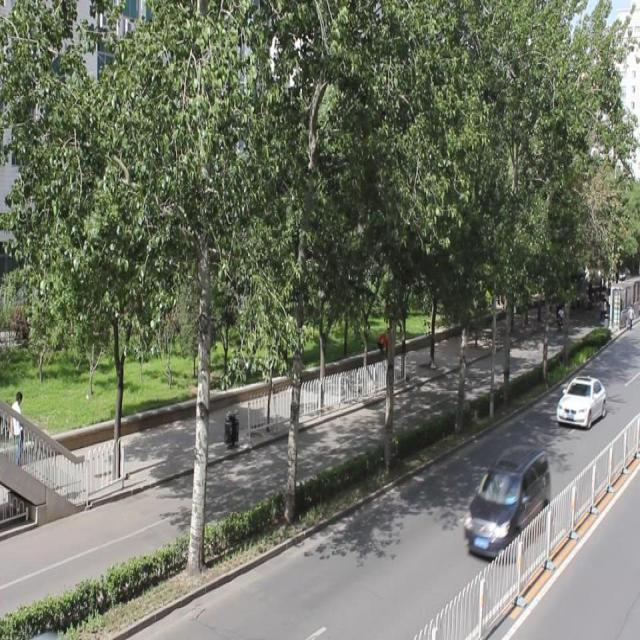car: (462, 444, 548, 554), (555, 373, 605, 428)
